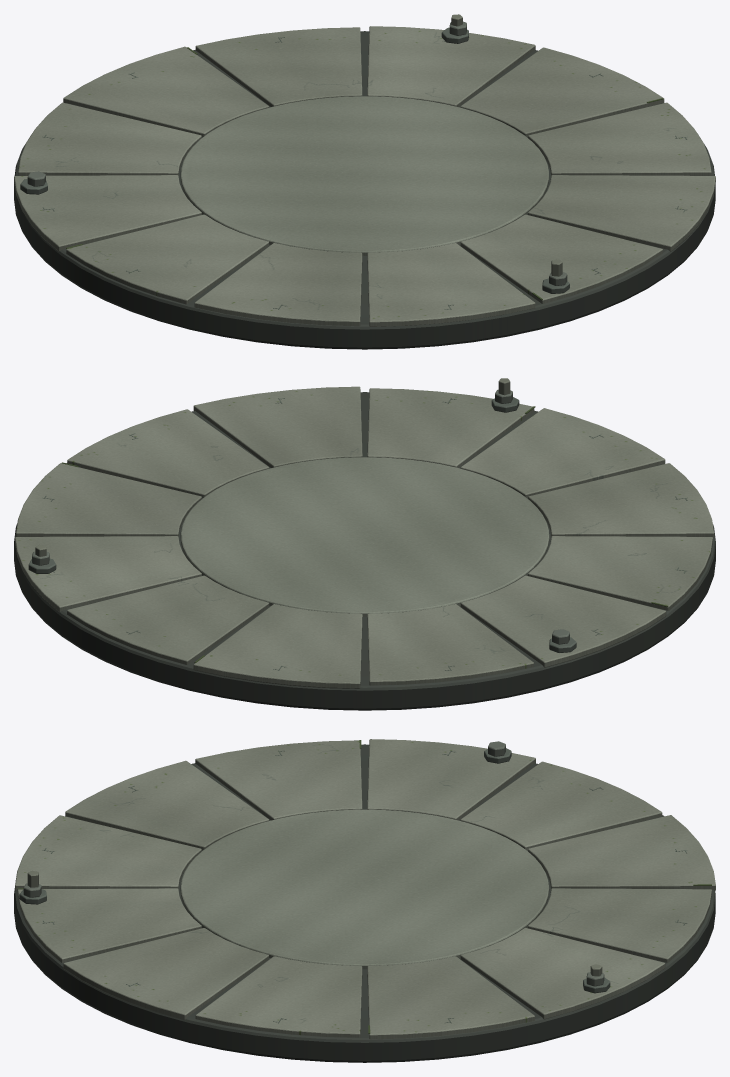
File: stone-circle-table.glb
The picture shows the model from 3 angles, top to bottom: view 1: azimuth 30°, elevation 25°; view 2: azimuth 150°, elevation 25°; view 3: azimuth 270°, elevation 25°; orthographic projection.
Visible parts, largest first — view 1: stone-circle-table-surface, stone-circle-table-frame; view 2: stone-circle-table-surface, stone-circle-table-frame; view 3: stone-circle-table-surface, stone-circle-table-frame.
Boxes of the visible parts, <box> form: stone-circle-table-surface: <box>14,26,715,326</box>; stone-circle-table-frame: <box>14,14,715,349</box>; stone-circle-table-surface: <box>15,386,714,688</box>; stone-circle-table-frame: <box>14,378,715,710</box>; stone-circle-table-surface: <box>15,739,715,1039</box>; stone-circle-table-frame: <box>14,740,715,1062</box>.
Bounding box in the file's own units: 30.64 × 2.69 × 30.65.
Materials: 2 (1 with a texture image).
